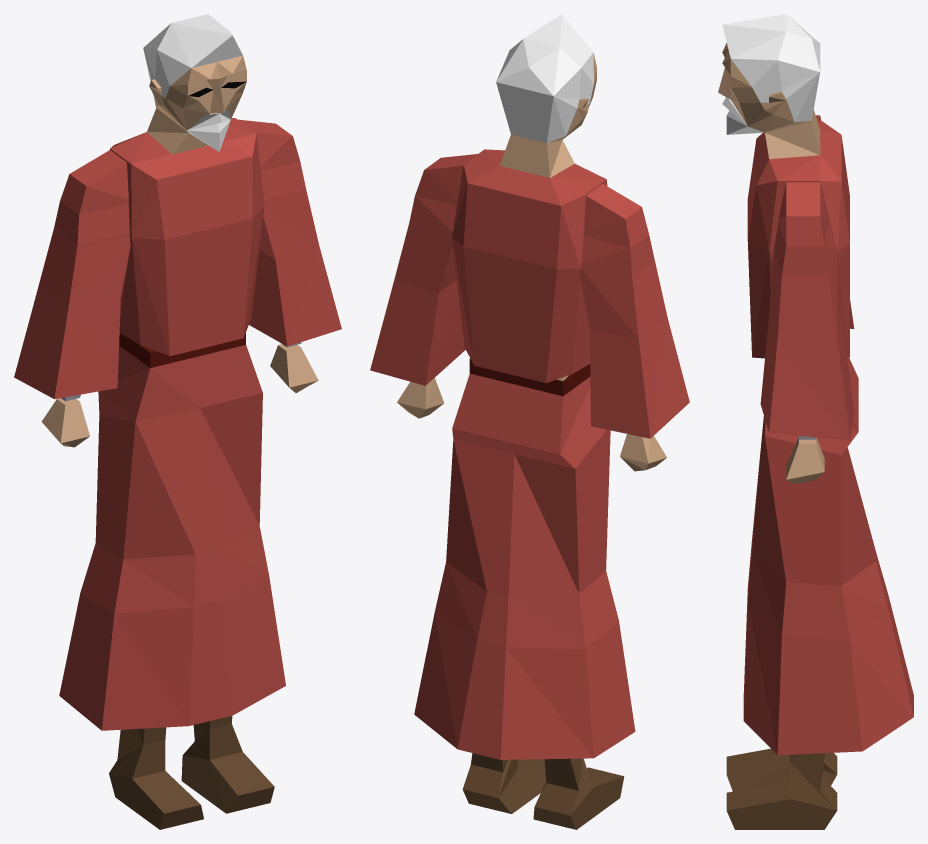
File: chaos_druid.glb
3 renders of one model, left to right at view 1: azimuth 30°, elevation 25°; view 2: azimuth 150°, elevation 25°; view 3: azimuth 270°, elevation 25°, orthographic. The views are drawn at different scales.
Size of the model in its own units: 78 by 203 by 46.
1 material, 1 textured.
